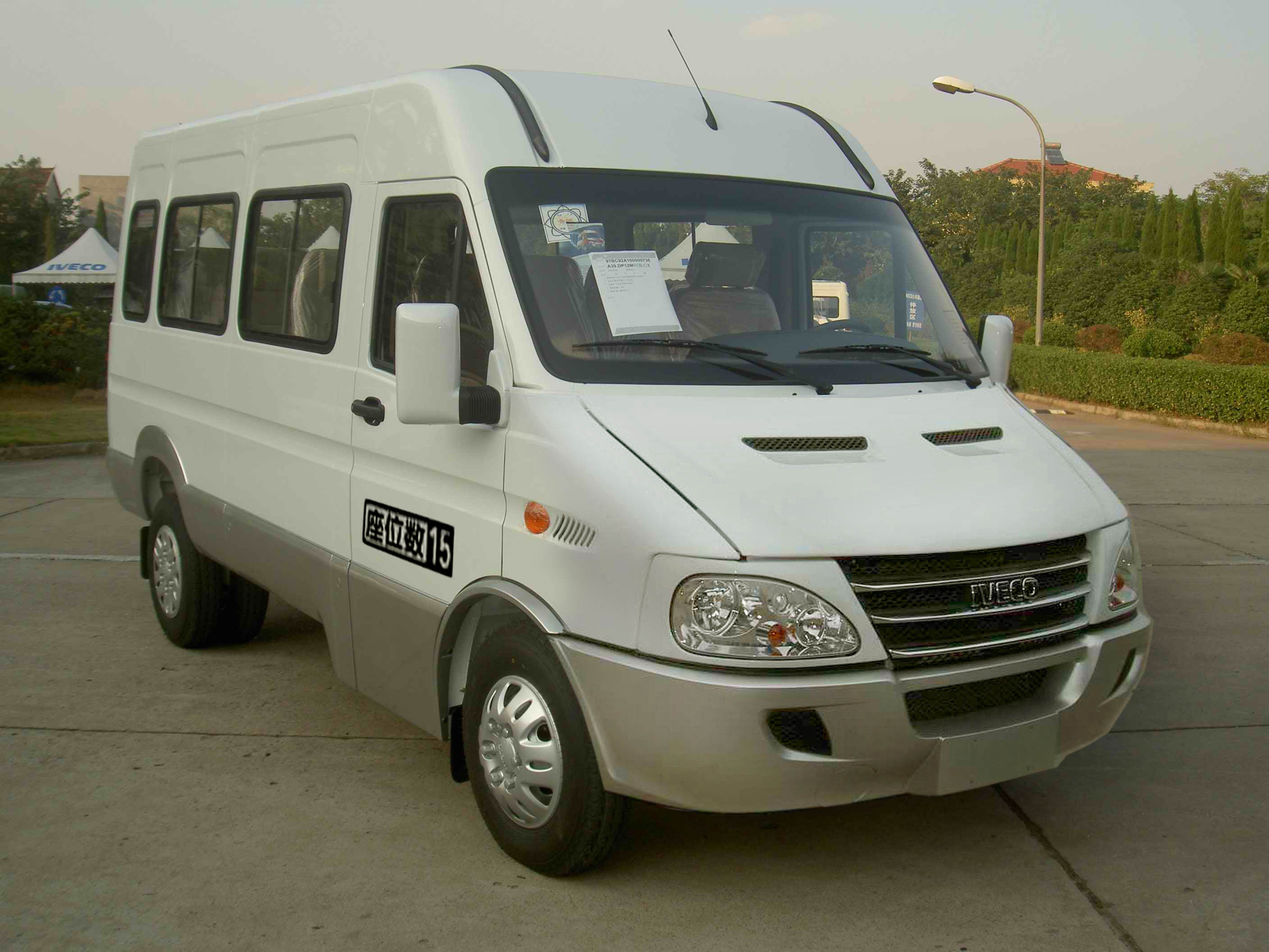midcar: (98, 67, 1159, 864)
